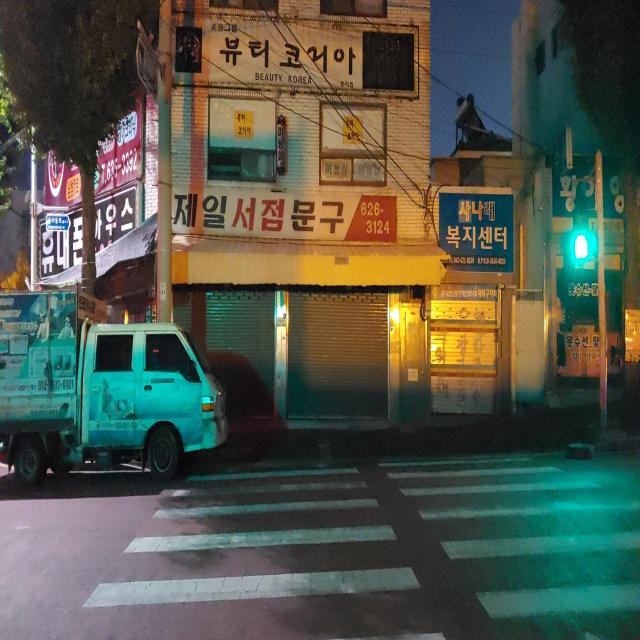초록불: (572, 213, 588, 270)
횡단보도: (78, 456, 640, 640)
